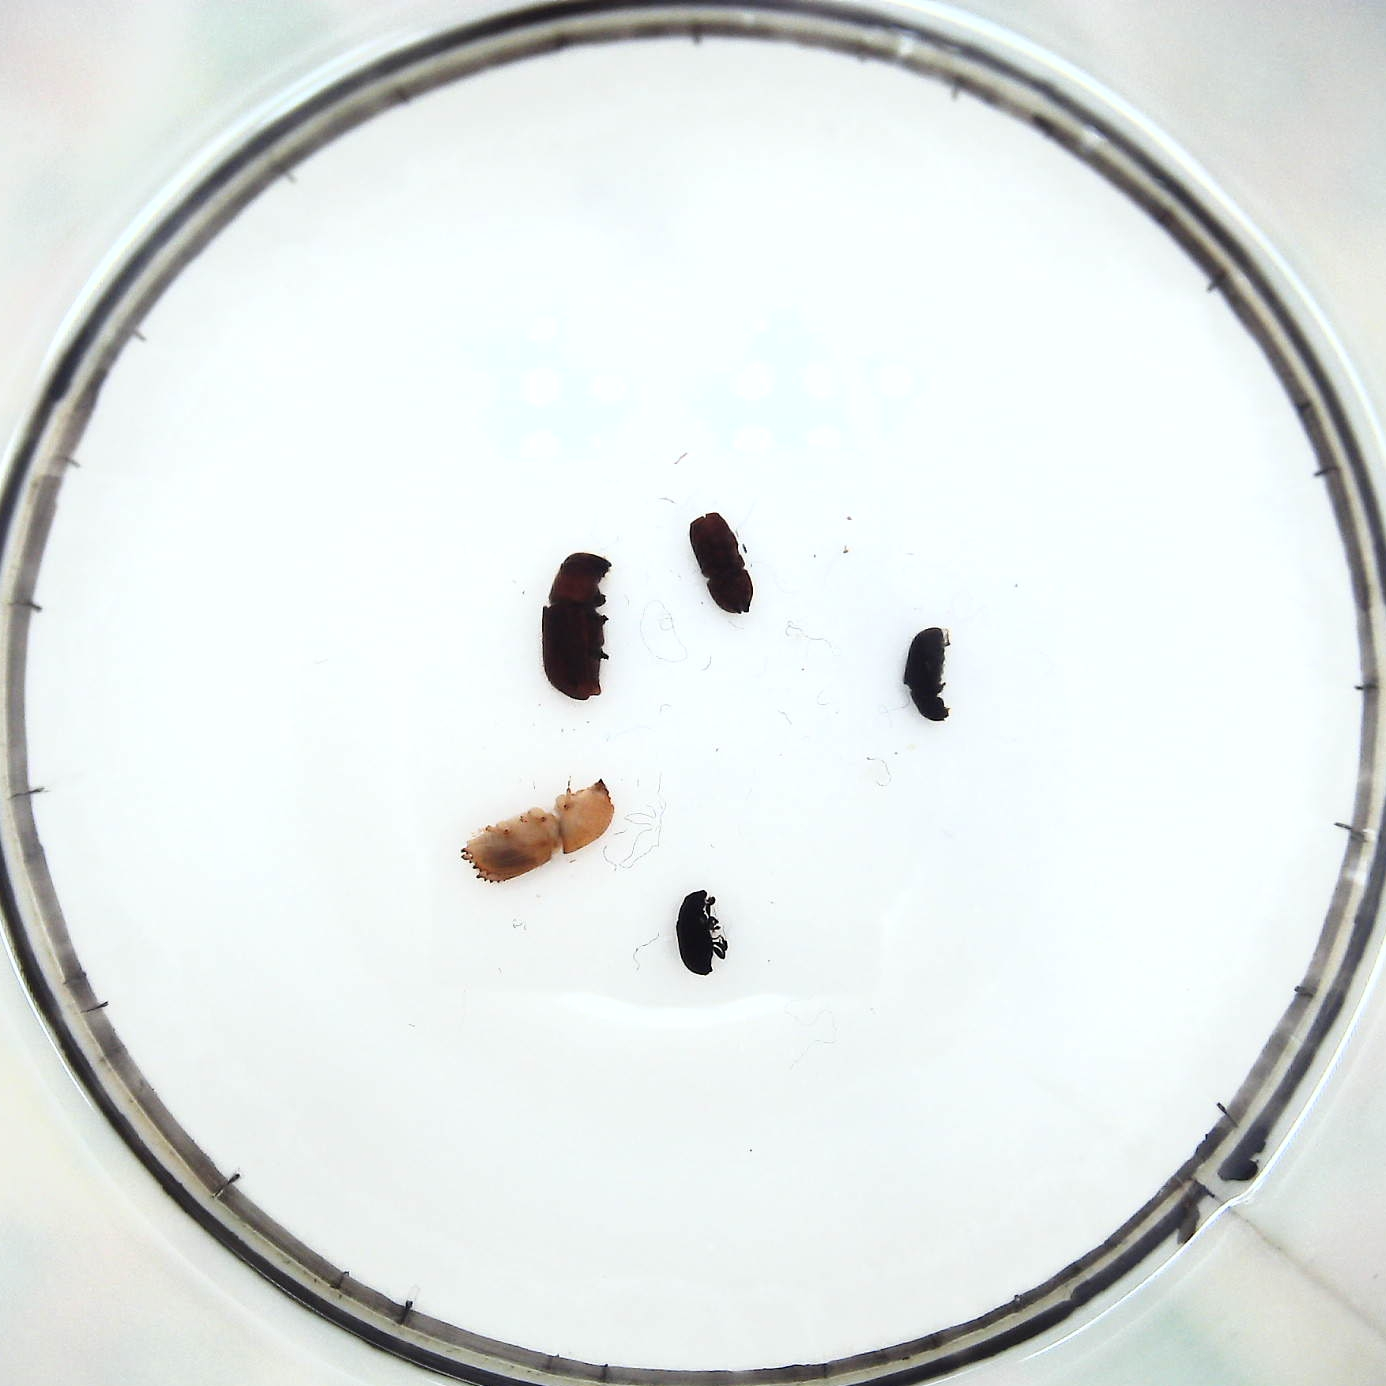Boerner: (459, 775, 617, 883)
Leconte: (538, 542, 610, 703)
Linnaeus: (687, 511, 756, 616)
armandi: (904, 624, 957, 729)
coleoptera: (674, 890, 730, 979)
